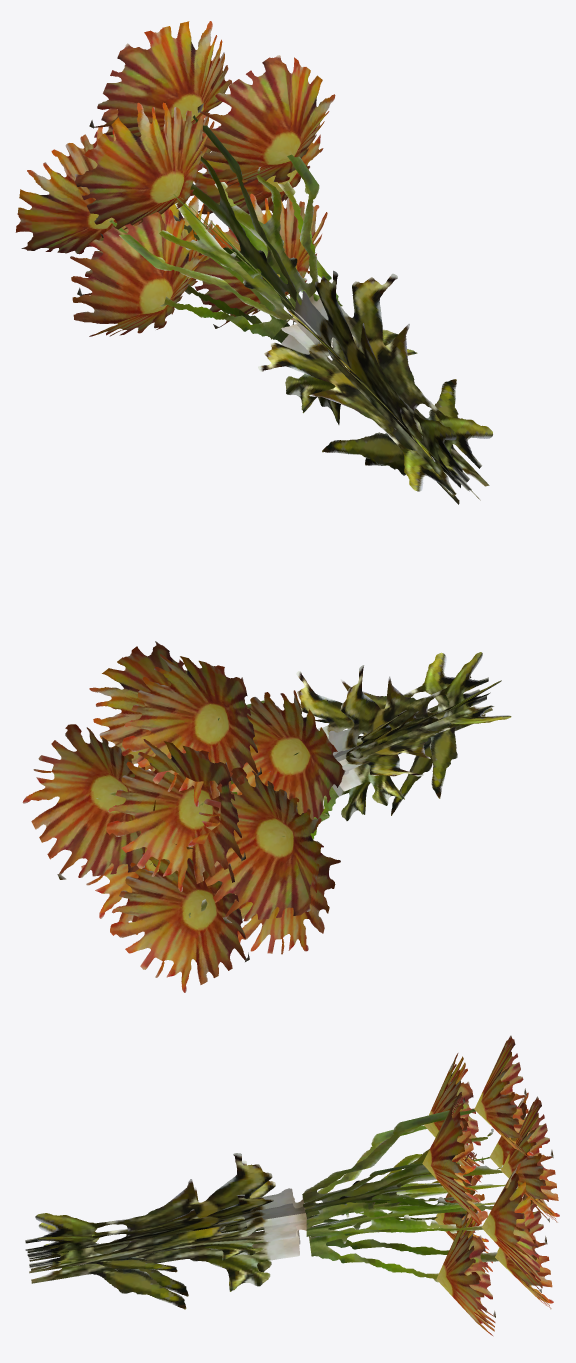
Rendered from flowersbunch01.obj.
The picture shows the model from 3 angles, top to bottom: view 1: azimuth 30°, elevation 25°; view 2: azimuth 150°, elevation 25°; view 3: azimuth 270°, elevation 25°; orthographic projection. The views are drawn at different scales.
Visible parts, largest first — view 1: flowersbunch01; view 2: flowersbunch01; view 3: flowersbunch01.
Part boxes in pixels (bbox=[...]): flowersbunch01: bbox=[15, 21, 492, 504]; flowersbunch01: bbox=[22, 641, 511, 992]; flowersbunch01: bbox=[25, 1035, 559, 1336].
Size of the model in its own units: 0.4518 by 0.4786 by 0.8281.
Materials: 1 (1 with a texture image).
